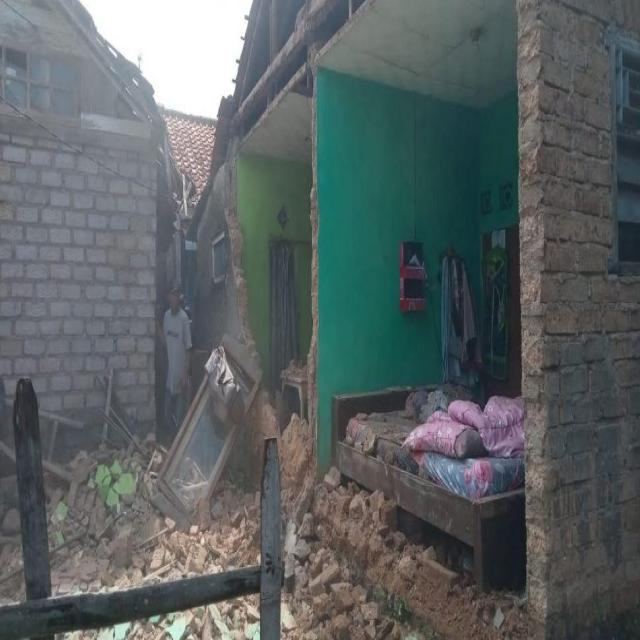damage: (0, 392, 455, 640), (196, 105, 335, 392)
